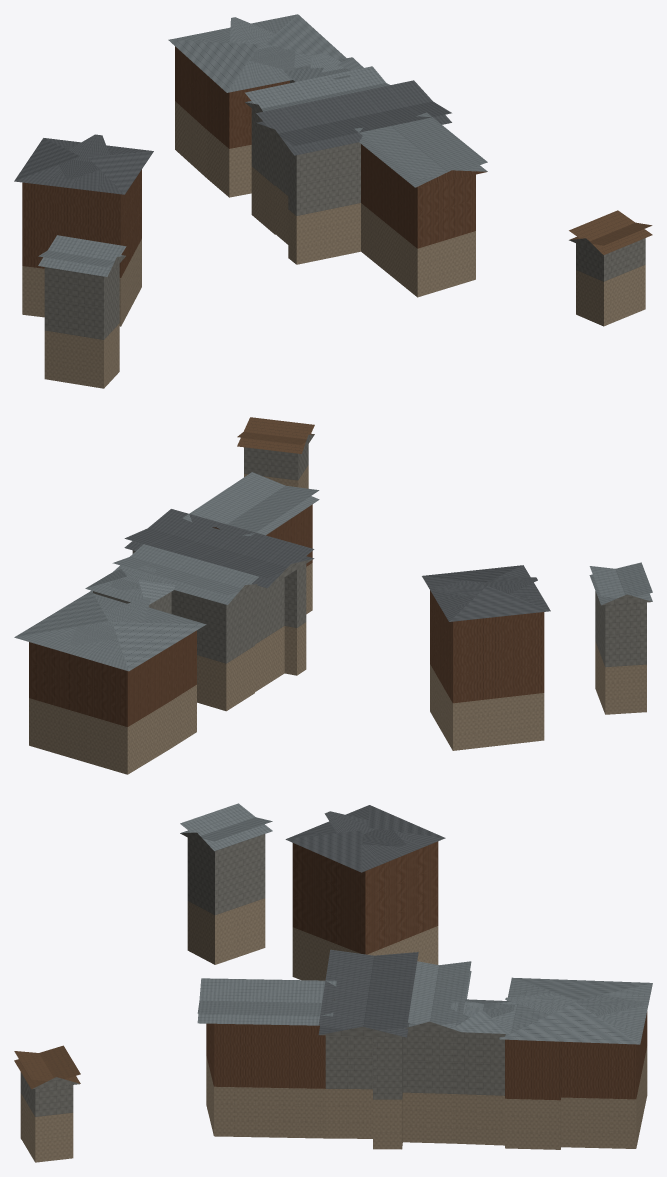
Rendered from bld_c10_19_429.gltf.
3 renders of one model, top to bottom at view 1: azimuth 30°, elevation 25°; view 2: azimuth 150°, elevation 25°; view 3: azimuth 270°, elevation 25°, orthographic. The views are drawn at different scales.
Visible parts, largest first — view 1: bld_c10_19_429; view 2: bld_c10_19_429; view 3: bld_c10_19_429.
Part boxes in pixels (box(x1,y1,x2,y2)): bld_c10_19_429: box(14, 14, 652, 388); bld_c10_19_429: box(14, 417, 652, 774); bld_c10_19_429: box(14, 803, 652, 1162).
Size of the model in its own units: 56.31 by 15.9 by 59.43.
8 materials, 8 textured.
